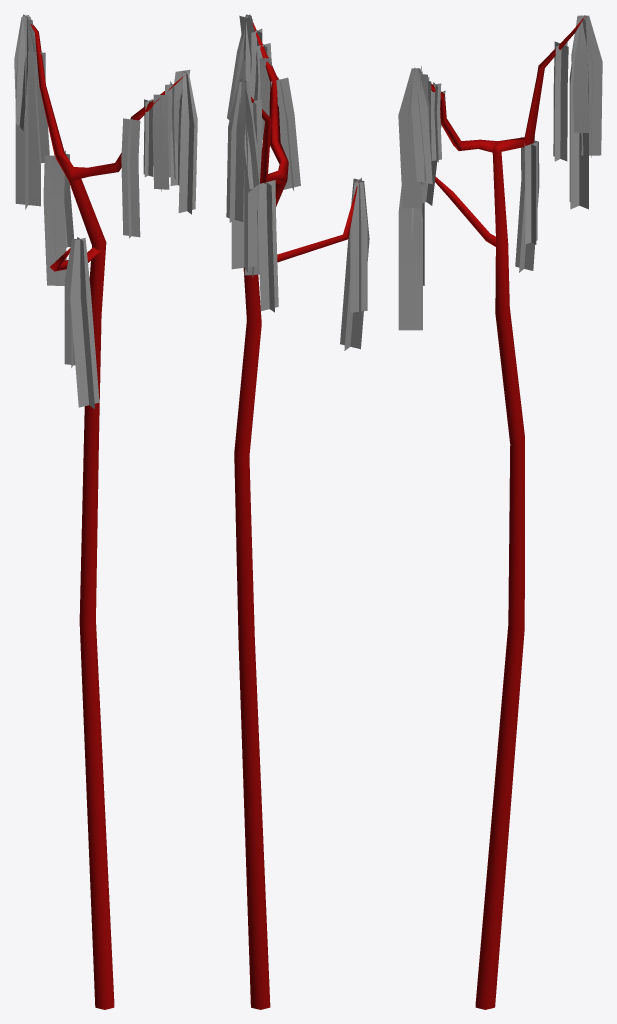
File: env_forest_birchsmall02.fbx
3 views of the same model, side by side, from view 1: azimuth 30°, elevation 25°; view 2: azimuth 150°, elevation 25°; view 3: azimuth 270°, elevation 25° (orthographic).
Visible parts, largest first — view 1: env_forest_birchsmall02__submesh0; view 2: env_forest_birchsmall02__submesh0; view 3: env_forest_birchsmall02__submesh0.
Part boxes in pixels (left/top/right/bottom): env_forest_birchsmall02__submesh0: left=14, top=14, right=197, bottom=1009; env_forest_birchsmall02__submesh0: left=226, top=14, right=369, bottom=1009; env_forest_birchsmall02__submesh0: left=398, top=15, right=602, bottom=1009.
Size of the model in its own units: 8.33 by 57.17 by 10.85.
